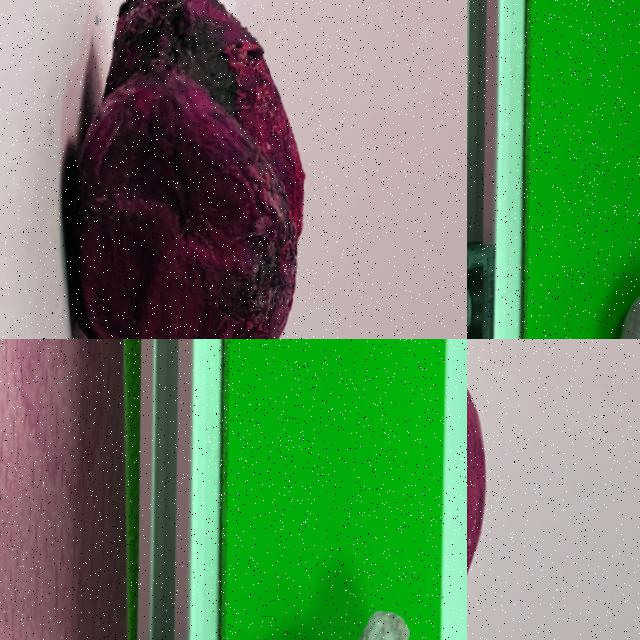Agglomerated_cocoabeans: (22, 0, 324, 338), (213, 529, 442, 639), (566, 151, 639, 338)
Fine_cocoabeans: (467, 339, 513, 639)
